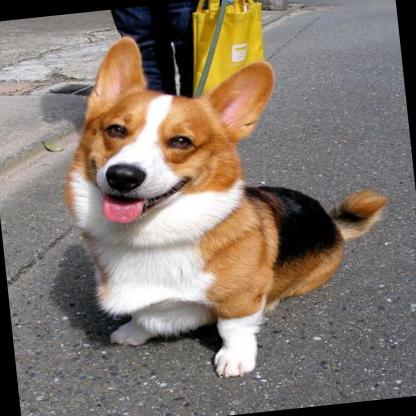Cardigan: (46, 7, 406, 392)
